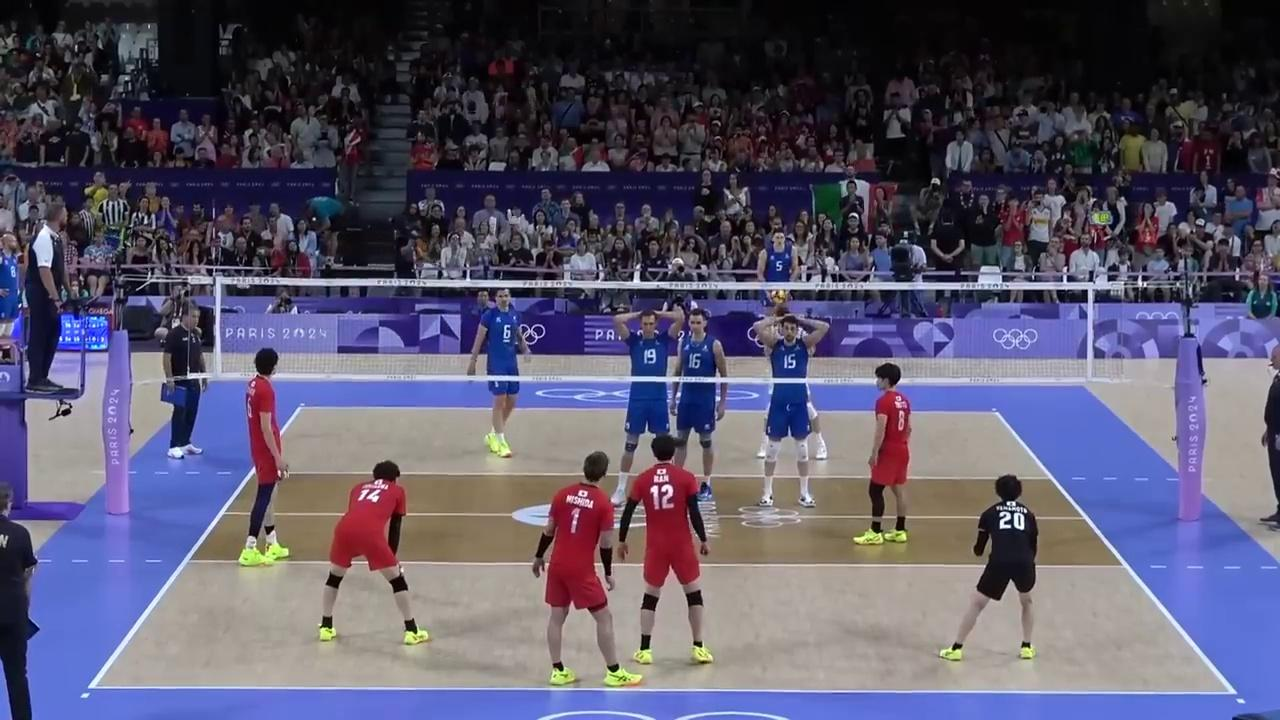ball: (772, 288, 784, 303)
